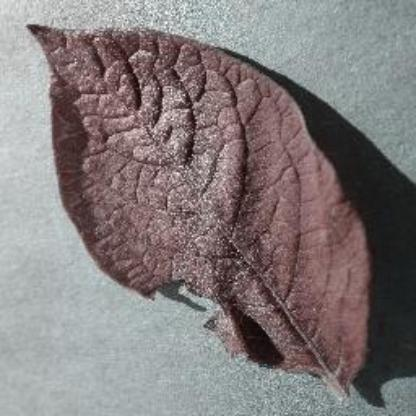Healthy-plant: (14, 15, 390, 401)
